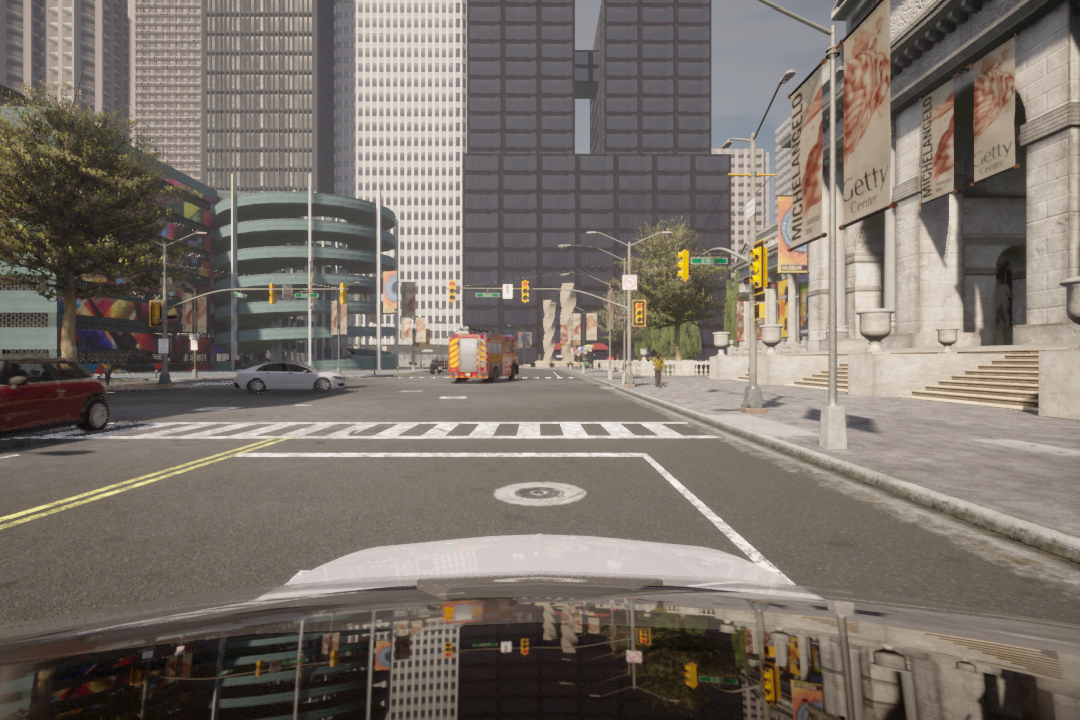TrafficLight: (747, 244, 768, 283), (628, 298, 648, 327), (675, 248, 691, 284), (520, 278, 532, 307), (445, 281, 454, 303)
TrafficSign: (617, 272, 638, 292)
walkside: (16, 414, 730, 448)
